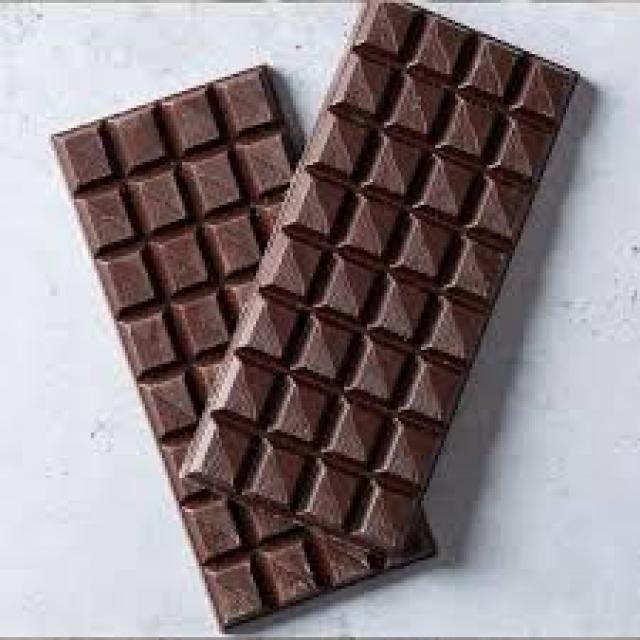Chocolate: (51, 0, 584, 640)
